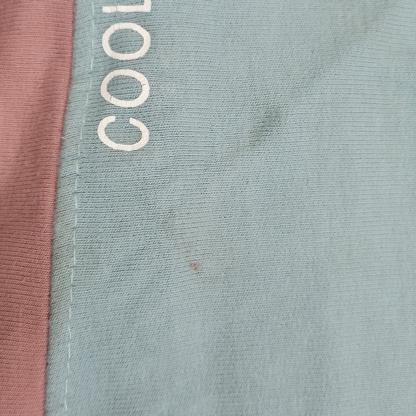spot: (185, 255, 208, 282)
